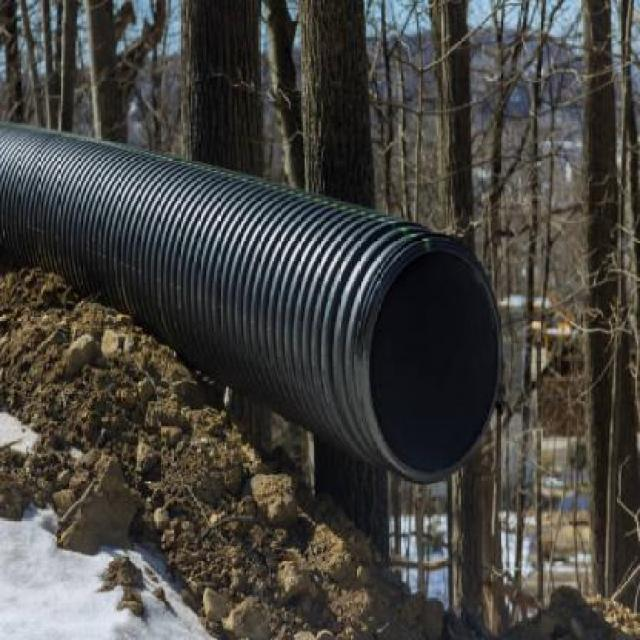pipe: (360, 236, 502, 485)
